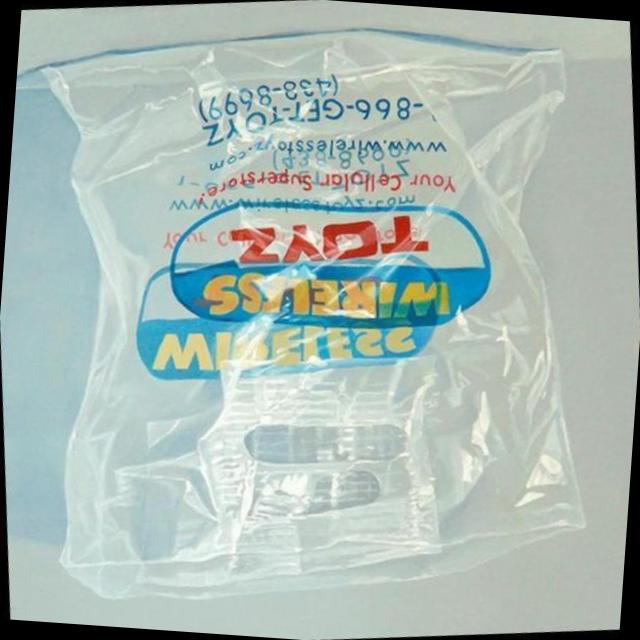KantongPlastik: (2, 7, 621, 633)
